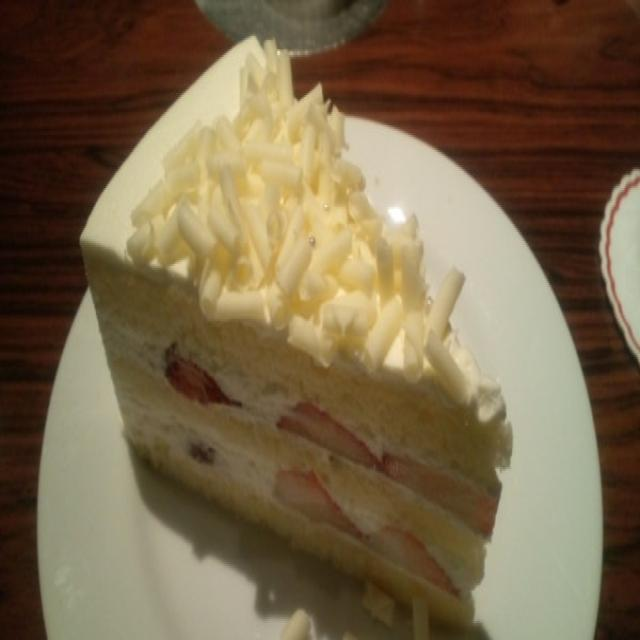蛋糕甜品: (44, 53, 624, 636)
